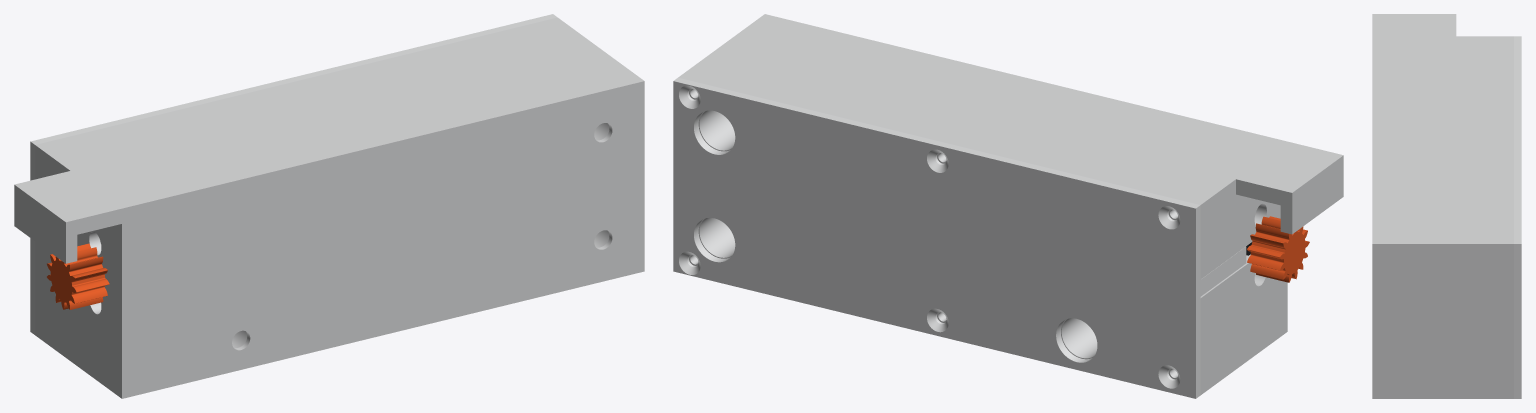
The model's file is v3_closed.glb.
3 views of the same model, side by side, from view 1: azimuth 30°, elevation 25°; view 2: azimuth 150°, elevation 25°; view 3: azimuth 270°, elevation 25° (orthographic). The views are drawn at different scales.
Parts seen in each view (by area): view 1: tub, lid, pinion; view 2: lid, tub, pinion; view 3: tub, lid.
Boxes of the visible parts, x1,y1,x2,y2 form: tub: (14, 17, 644, 398); lid: (30, 14, 557, 334); pinion: (47, 243, 109, 309); lid: (673, 77, 1246, 398); tub: (678, 14, 1343, 394); pinion: (1247, 216, 1309, 282); tub: (1372, 14, 1513, 398); lid: (1514, 36, 1521, 398).
Size of the model in its own units: 0.175 by 0.055 by 0.048.
